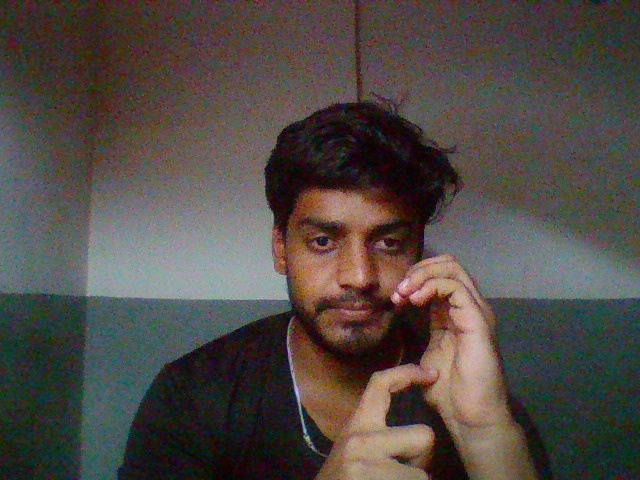G: (336, 230, 507, 480)
